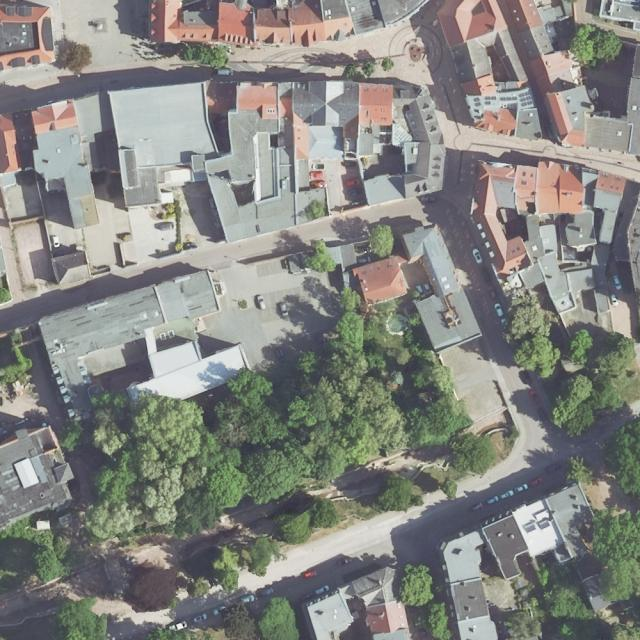PV: (473, 91, 534, 108)
ST: (538, 520, 550, 531), (525, 522, 536, 533)
